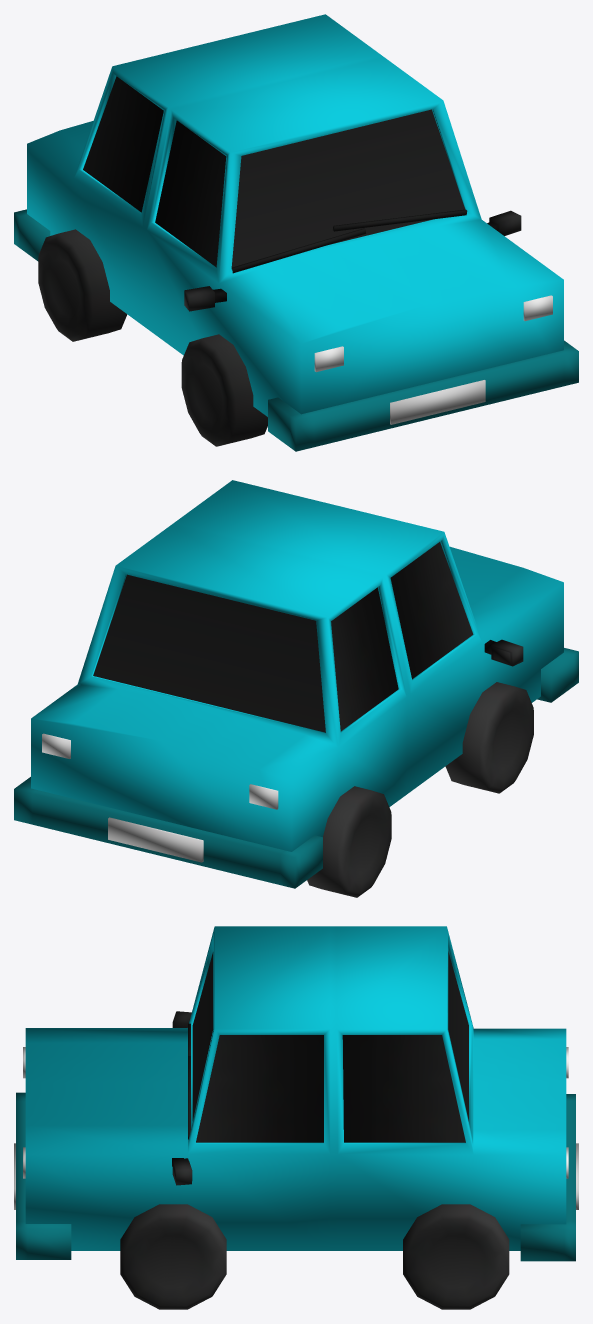
Rendered from SimpleCar.fbx.
The picture shows the model from 3 angles, top to bottom: view 1: azimuth 30°, elevation 25°; view 2: azimuth 150°, elevation 25°; view 3: azimuth 270°, elevation 25°; orthographic projection.
Parts seen in each view (by area): view 1: SimpleCar; view 2: SimpleCar; view 3: SimpleCar.
Boxes of the visible parts, x1,y1,x2,y2 form: SimpleCar: (14,14,578,451); SimpleCar: (14,480,578,897); SimpleCar: (14,926,578,1309).
Bounding box in the file's own units: 167 × 127 × 249.
Materials: 1 (1 with a texture image).
